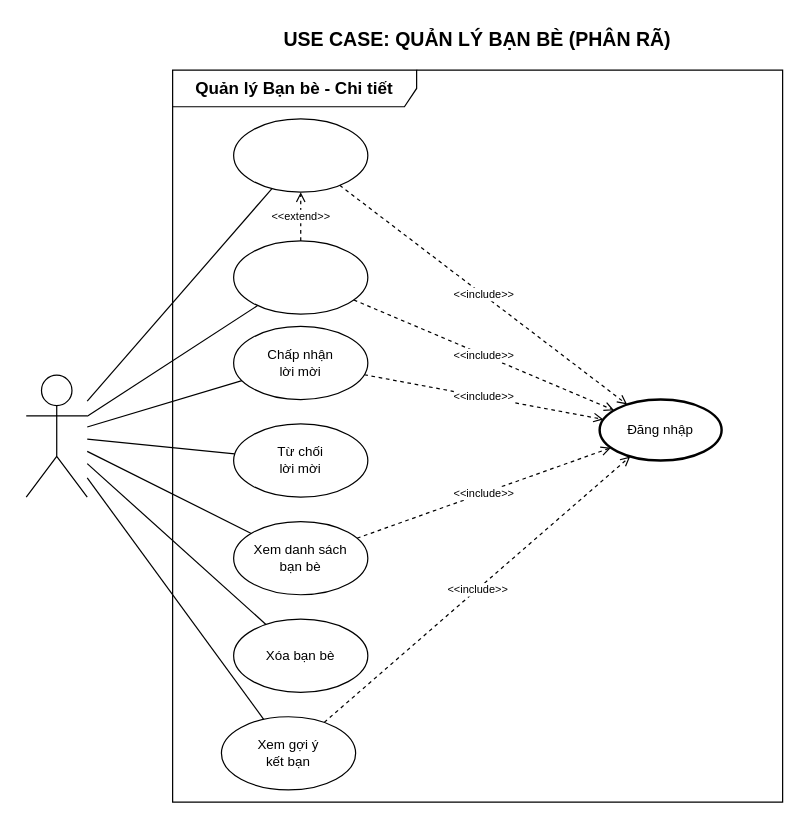
Image size: 804x824. Some labels were removed from this diagram. Each missing label, with the box of its shape:
Gửi lời mời kết bạn: (232, 240, 368, 314)
Registered User: (25, 374, 87, 497)
Tìm kiếm người dùng: (232, 118, 368, 192)
